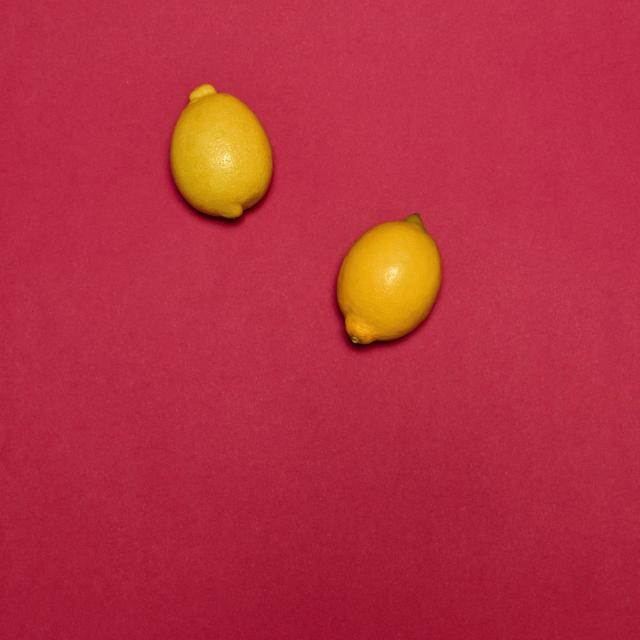lemon: (162, 77, 279, 229), (327, 206, 446, 352)
